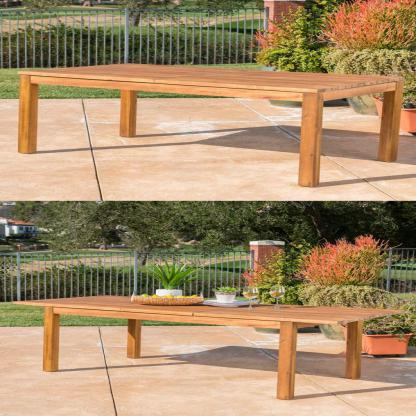table: (0, 53, 413, 192), (4, 288, 413, 402)
